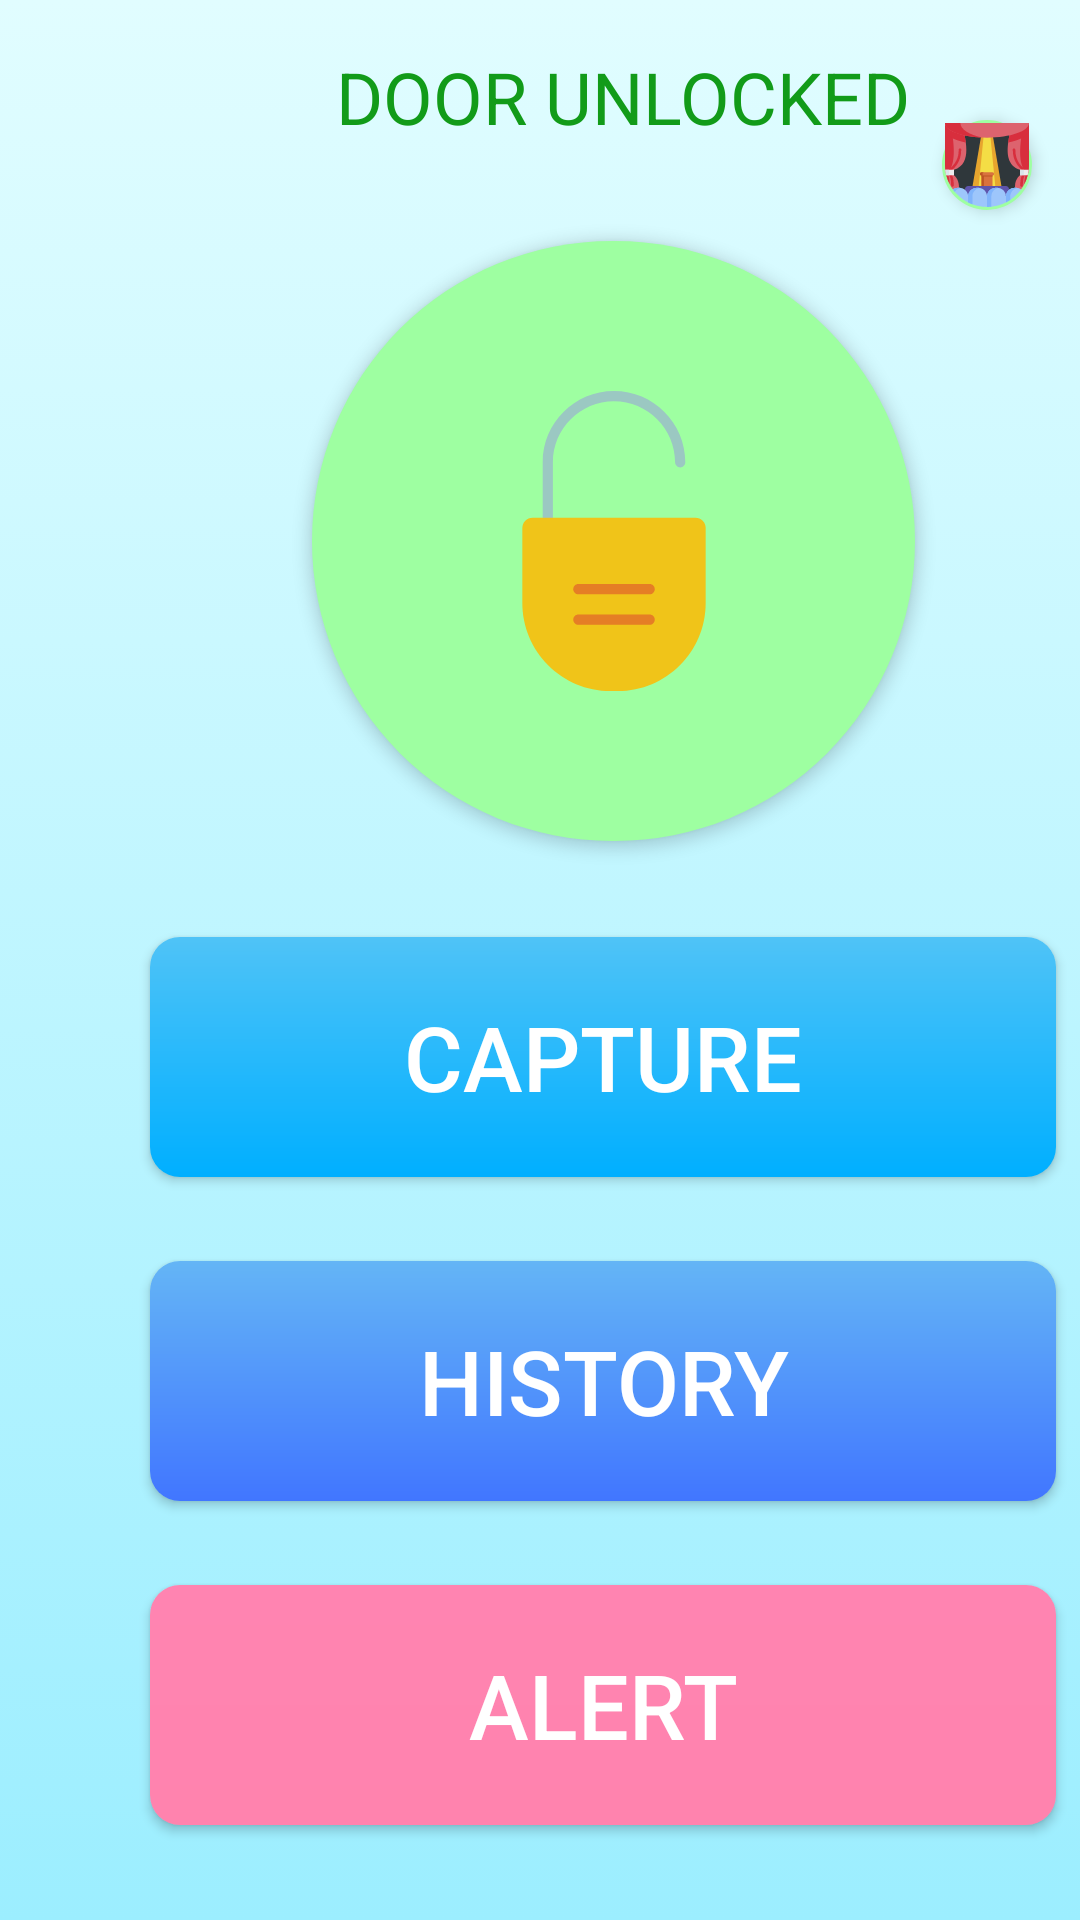

Where icons sit on this 1080x1920 app screen, as (x1, y1, x2, y2):
scene: (942, 120, 1032, 210)
